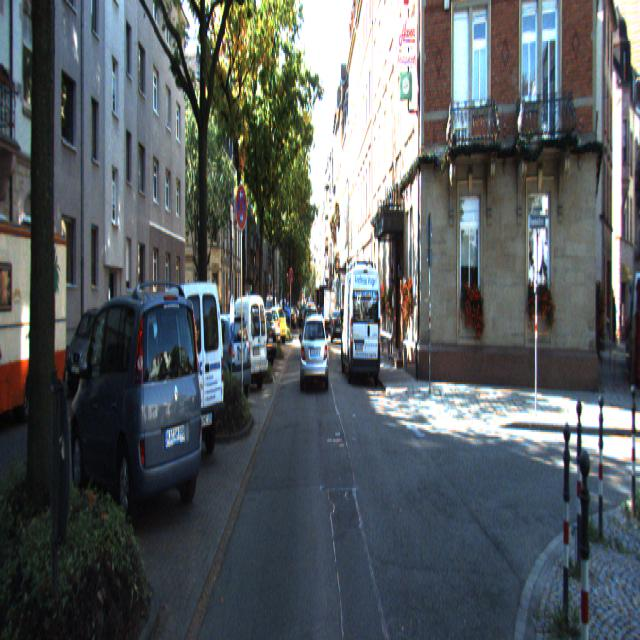Car: (70, 276, 208, 538), (140, 279, 228, 472), (0, 208, 71, 439), (192, 313, 254, 409), (212, 289, 270, 389), (342, 260, 382, 382), (232, 311, 280, 372), (301, 315, 329, 392), (301, 306, 319, 358)
